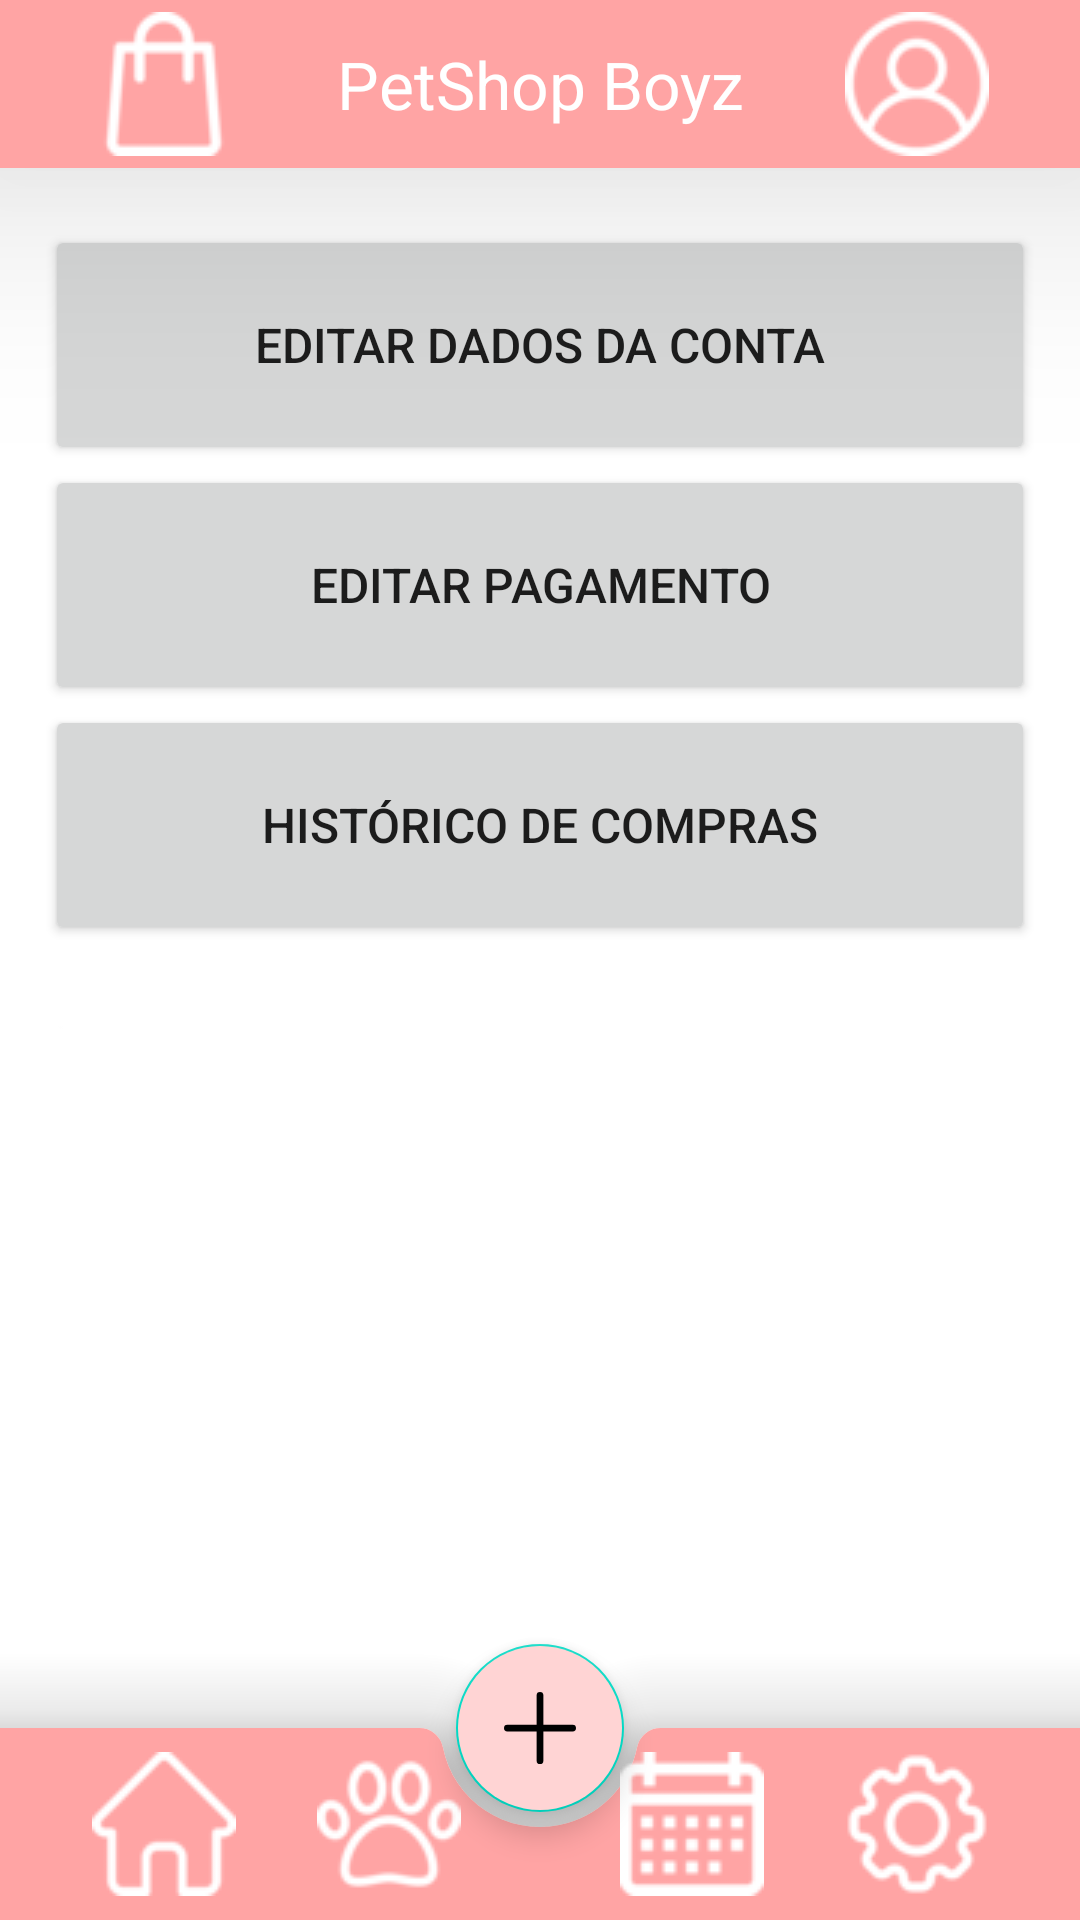

Named icons in this screenshot (1080px×1920px) and their centers, (x=x, y=y):
add: (x=540, y=1728)
calendar: (x=691, y=1824)
pet: (x=388, y=1824)
